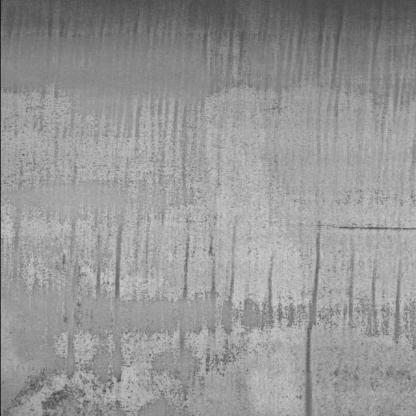waist_folding: (55, 6, 381, 350)
